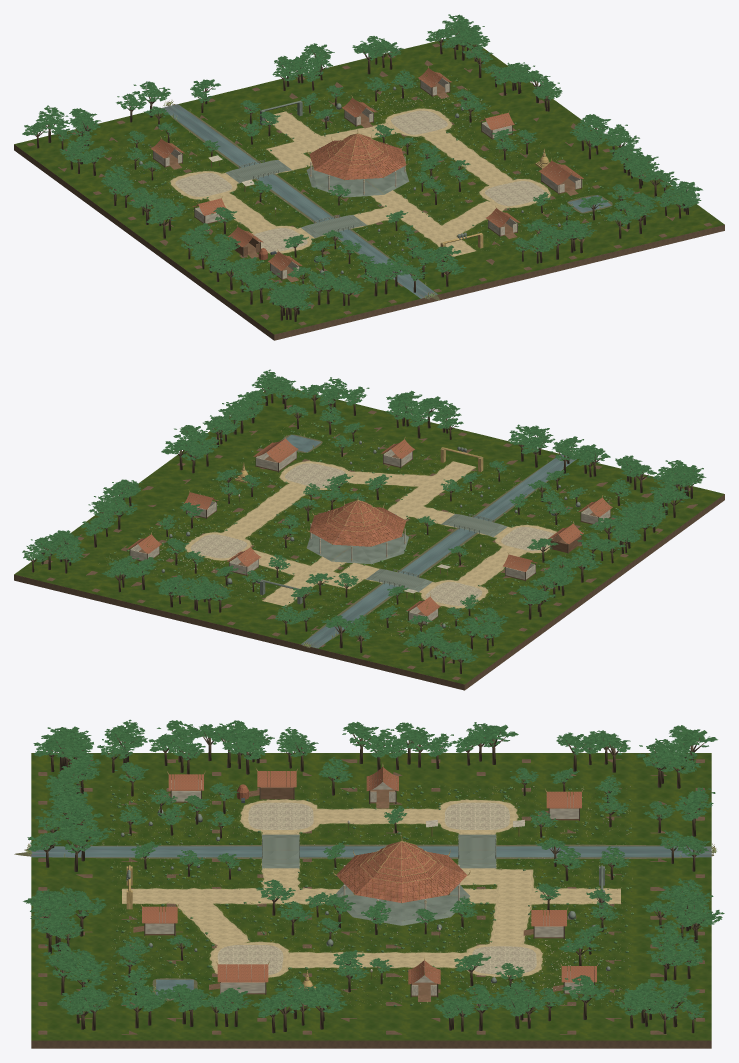
Rendered from lablae.glb.
3 views of the same model, one above another, from view 1: azimuth 30°, elevation 25°; view 2: azimuth 150°, elevation 25°; view 3: azimuth 270°, elevation 25° (orthographic). The views are drawn at different scales.
Parts seen in each view (by area): view 1: Ground - varied meadow | ground_lablae, Tracks - worn earth | path, Soil foundation | earth, Courtyard paving | paving, Water surface 00 | water, Thai roof tile bands | roof, Feathered road shoulders | path_edge, Sala ring roof with open centre | roof, House side wall | plaster, Sala deck top | stone, Bridge continuous deck | stone, Sala raised roof ribs | roof (+8 smaller); view 2: Ground - varied meadow | ground_lablae, Tracks - worn earth | path, Soil foundation | earth, Courtyard paving | paving, Water surface 00 | water, Thai roof tile bands | roof, Feathered road shoulders | path_edge, Sala ring roof with open centre | roof, Sala deck top | stone, House side wall | plaster, Bridge continuous deck | stone, Organic understory shrubs | leaf2 (+8 smaller); view 3: Ground - varied meadow | ground_lablae, Tracks - worn earth | path, Soil foundation | earth, Courtyard paving | paving, Thai roof tile bands | roof, Water surface 00 | water, Feathered road shoulders | path_edge, Sala ring roof with open centre | roof, House side wall | plaster, Bridge continuous deck | stone, Damp canal edges | mud, Sala raised roof ribs | roof (+11 smaller).
Part boxes in pixels (x1,y1,x2,y2): Ground - varied meadow | ground_lablae: [14, 36, 724, 334]; Tracks - worn earth | path: [173, 109, 548, 256]; Soil foundation | earth: [14, 43, 724, 340]; Courtyard paving | paving: [175, 110, 544, 251]; Water surface 00 | water: [161, 104, 437, 298]; Thai roof tile bands | roof: [150, 68, 583, 270]; Feathered road shoulders | path_edge: [170, 108, 550, 256]; Sala ring roof with open centre | roof: [309, 140, 406, 179]; House side wall | plaster: [153, 78, 580, 278]; Sala deck top | stone: [312, 168, 403, 193]; Bridge continuous deck | stone: [232, 160, 360, 235]; Sala raised roof ribs | roof: [310, 140, 405, 179]; Ground - varied meadow | ground_lablae: [14, 389, 724, 684]; Tracks - worn earth | path: [187, 461, 555, 607]; Soil foundation | earth: [14, 400, 724, 690]; Courtyard paving | paving: [190, 463, 553, 605]; Water surface 00 | water: [301, 454, 576, 648]; Thai roof tile bands | roof: [127, 438, 612, 615]; Feathered road shoulders | path_edge: [185, 460, 556, 608]; Sala ring roof with open centre | roof: [309, 507, 406, 546]; Sala deck top | stone: [312, 535, 403, 560]; House side wall | plaster: [130, 449, 610, 623]; Bridge continuous deck | stone: [372, 514, 501, 589]; Organic understory shrubs | leaf2: [106, 423, 640, 636]; Ground - varied meadow | ground_lablae: [31, 753, 711, 1040]; Tracks - worn earth | path: [122, 801, 620, 976]; Soil foundation | earth: [31, 759, 711, 1048]; Courtyard paving | paving: [217, 802, 536, 974]; Thai roof tile bands | roof: [142, 767, 596, 984]; Water surface 00 | water: [31, 846, 711, 857]; Feathered road shoulders | path_edge: [122, 799, 620, 977]; Sala ring roof with open centre | roof: [336, 853, 466, 902]; House side wall | plaster: [145, 780, 593, 993]; Bridge continuous deck | stone: [262, 837, 496, 863]; Damp canal edges | mud: [14, 844, 713, 1000]; Sala raised roof ribs | roof: [336, 852, 466, 901].
Size of the model in its own units: 183 by 20.4 by 188.
Materials: 31 (27 with a texture image).
